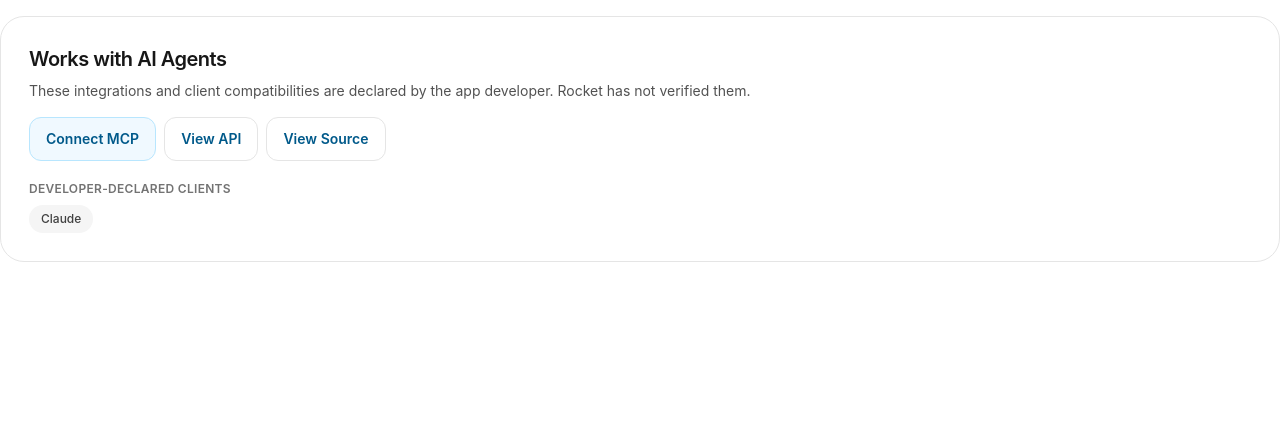
Scenario: shows only declared actions and identifies unverified compatibility
This screenshot has width=1280, height=431.
Expected: the heading "Works with AI Agents" is shown, [29, 47, 226, 71]
Expected: the text "Rocket has not verified" is shown, [29, 82, 750, 99]
What coordinates should you click on to do the following:
click the button "Connect MCP"
I would click on:
 (93, 139)
Its box is [29, 117, 156, 161].
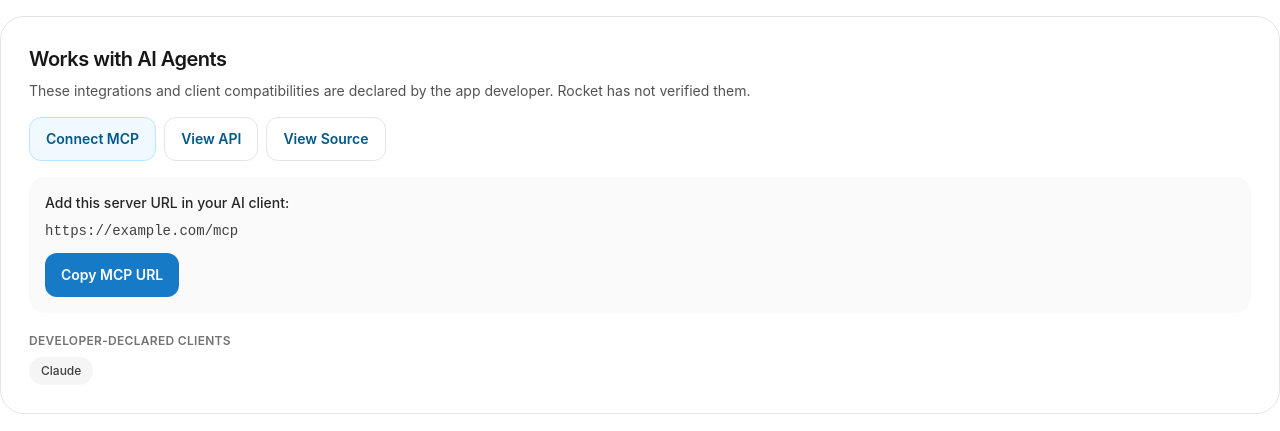
Now the text "https://example.com/mcp" is shown, box [45, 223, 238, 239]
